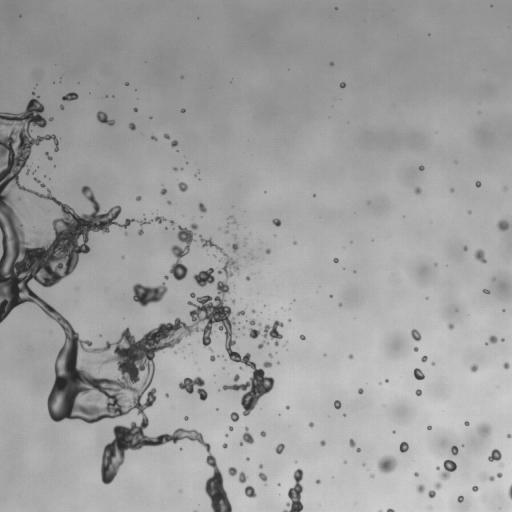droplet: (248, 319, 283, 348), (132, 283, 167, 307), (179, 377, 207, 401), (436, 458, 457, 480), (193, 267, 214, 287), (377, 455, 397, 473), (239, 427, 253, 445), (478, 423, 491, 436), (474, 249, 486, 263), (488, 449, 501, 461), (497, 219, 509, 231), (413, 368, 425, 380), (244, 485, 256, 497), (62, 92, 78, 100), (411, 329, 421, 341), (485, 335, 497, 344), (399, 442, 409, 452), (275, 443, 284, 454), (258, 472, 267, 483), (153, 215, 165, 223), (231, 241, 239, 252), (178, 182, 187, 191), (230, 412, 239, 421), (198, 202, 206, 212), (272, 218, 281, 226), (416, 484, 425, 492), (451, 445, 458, 455), (470, 364, 478, 372), (334, 400, 341, 409), (263, 361, 272, 367), (349, 438, 355, 447), (414, 187, 421, 194), (237, 309, 245, 315), (129, 123, 135, 130), (160, 188, 167, 194), (421, 355, 427, 362), (503, 362, 509, 369), (457, 495, 463, 502), (171, 140, 177, 146), (475, 181, 481, 187), (249, 253, 255, 259), (448, 323, 454, 329), (210, 355, 216, 361), (415, 389, 421, 395), (260, 431, 266, 437), (472, 485, 478, 491), (163, 133, 169, 138), (151, 135, 157, 140), (169, 220, 175, 225), (358, 388, 363, 394), (320, 440, 325, 446), (483, 289, 490, 293), (340, 82, 345, 87), (136, 196, 141, 201), (300, 335, 305, 340), (348, 354, 353, 359), (464, 421, 469, 426), (496, 473, 502, 477), (419, 166, 424, 170), (265, 249, 270, 253), (333, 258, 338, 262), (413, 347, 418, 351), (309, 422, 313, 427), (229, 426, 233, 431), (223, 443, 227, 448), (181, 108, 185, 112), (164, 275, 168, 279), (184, 416, 188, 420), (427, 425, 431, 429), (507, 434, 511, 438), (356, 448, 360, 452), (414, 472, 418, 476), (316, 479, 320, 483), (464, 246, 467, 251), (60, 105, 63, 109), (173, 167, 177, 170), (450, 188, 453, 192), (167, 200, 170, 204), (246, 276, 249, 280), (269, 353, 272, 357), (286, 405, 289, 409), (370, 474, 374, 477), (330, 62, 333, 65), (125, 82, 128, 85), (134, 108, 137, 111), (26, 170, 29, 173), (227, 222, 230, 225), (233, 235, 236, 238), (252, 309, 255, 312), (431, 362, 434, 365), (165, 393, 168, 396), (231, 300, 235, 302), (468, 211, 471, 213), (124, 232, 127, 234), (294, 241, 296, 244), (339, 303, 341, 306), (501, 338, 503, 341), (240, 366, 242, 369), (385, 379, 388, 381), (225, 434, 228, 436), (246, 458, 249, 460), (362, 463, 365, 465), (259, 465, 262, 467), (335, 7, 337, 9), (32, 92, 34, 94), (33, 171, 35, 173), (225, 231, 227, 233), (435, 263, 437, 265), (492, 278, 494, 280), (330, 295, 332, 297), (288, 319, 290, 321), (243, 326, 245, 328), (343, 414, 345, 416), (500, 464, 502, 466), (278, 483, 280, 485)
ligament: (0, 96, 272, 511), (169, 223, 197, 280), (283, 468, 303, 511), (228, 467, 247, 483), (96, 111, 114, 125), (428, 481, 441, 498), (481, 473, 494, 481), (34, 178, 45, 187), (228, 215, 236, 223), (45, 152, 52, 159), (508, 485, 511, 499), (386, 508, 394, 511), (243, 239, 246, 245), (378, 510, 382, 511)
